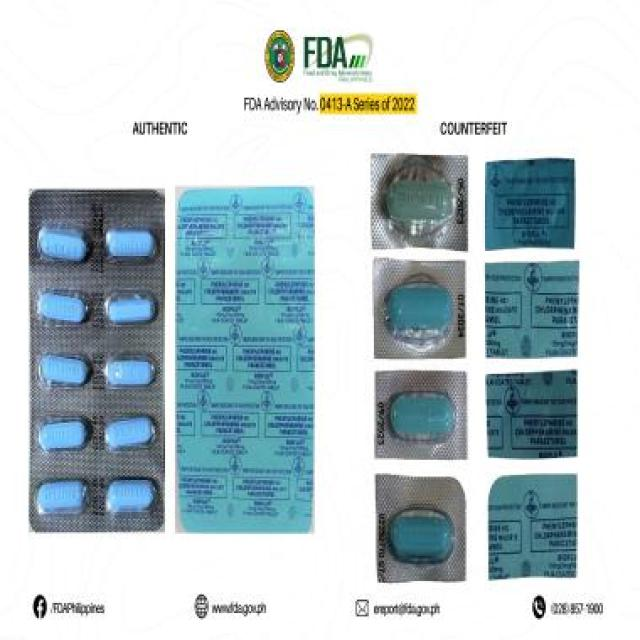Bioflu_Strip: (20, 174, 174, 546), (363, 144, 475, 594)
